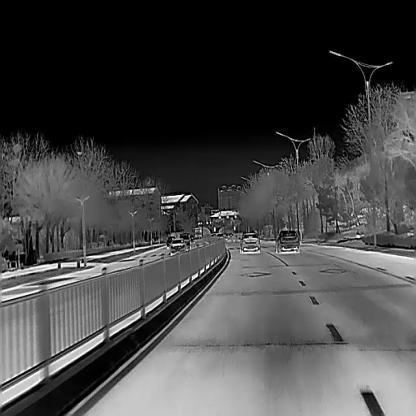car: (274, 229, 299, 253), (239, 232, 260, 254), (170, 237, 186, 255), (179, 232, 194, 251), (165, 235, 176, 247)
